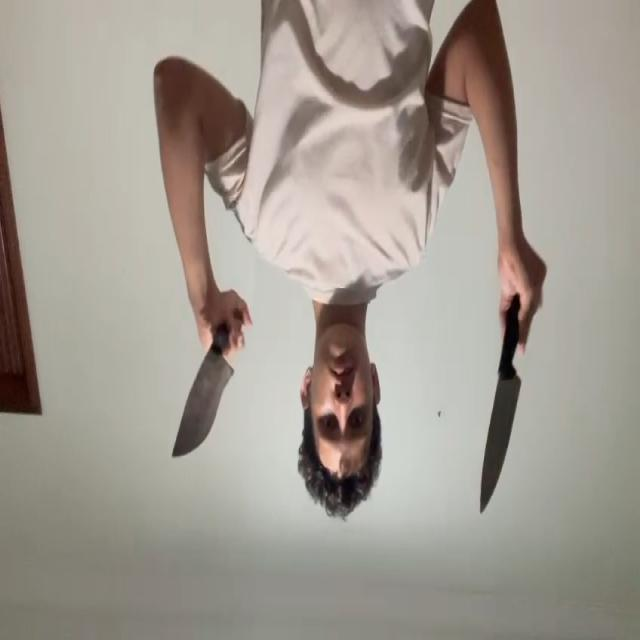knife: (172, 350, 234, 460), (480, 371, 521, 514)
